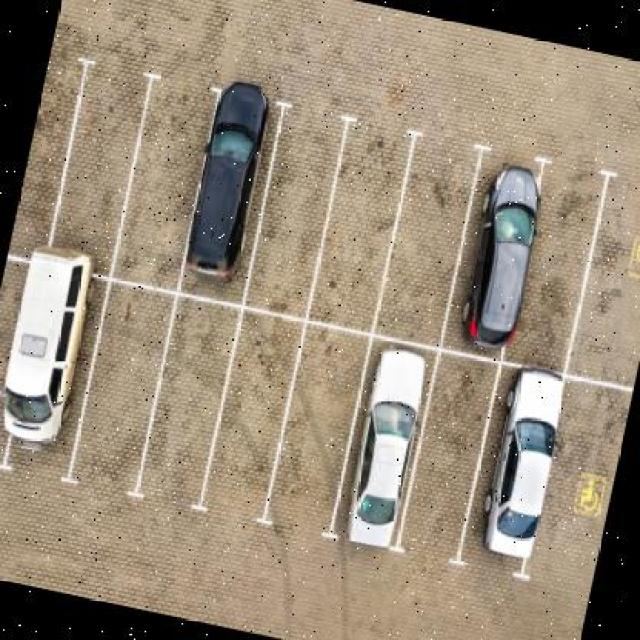Car: (327, 332, 446, 567), (464, 358, 580, 590), (175, 66, 287, 293), (452, 143, 559, 352), (1, 247, 104, 460)
Empty: (73, 283, 178, 490), (530, 380, 632, 587), (203, 313, 307, 515), (269, 326, 369, 527), (316, 120, 412, 326), (379, 139, 478, 338), (143, 296, 240, 498), (404, 360, 500, 563), (249, 107, 349, 301), (121, 77, 216, 277), (54, 66, 151, 261), (517, 170, 600, 361), (13, 49, 87, 244), (570, 171, 640, 377)
